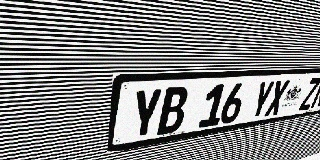1: (198, 84, 228, 128)
6: (219, 82, 248, 125)
B: (157, 86, 189, 135)
N: (310, 77, 320, 109)
X: (264, 80, 290, 117)
Y: (129, 88, 163, 140), (248, 81, 275, 119)
Z: (298, 78, 320, 111)
